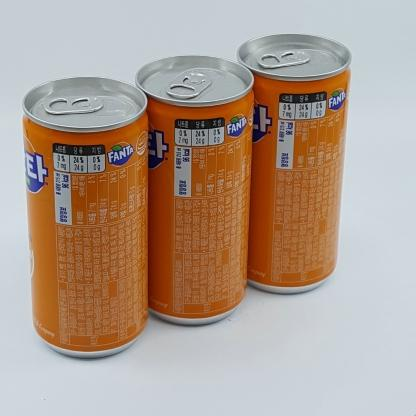-------215ML: (22, 76, 148, 359), (135, 54, 254, 326), (236, 32, 352, 294)
